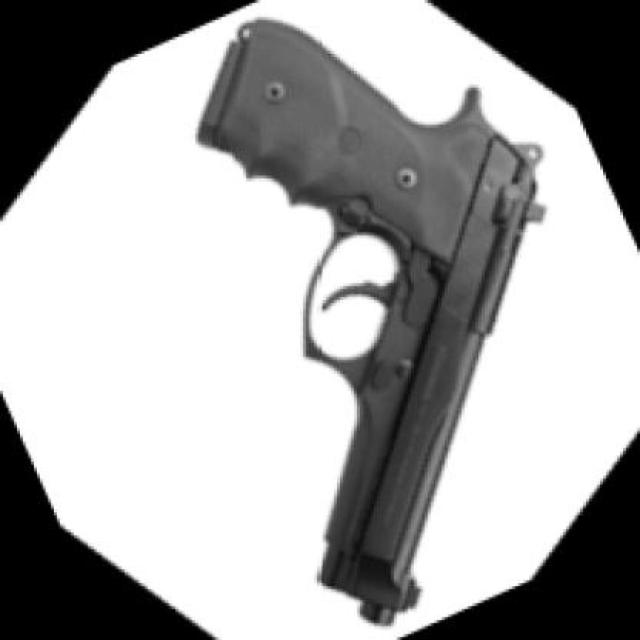weapon: (195, 18, 547, 627)
